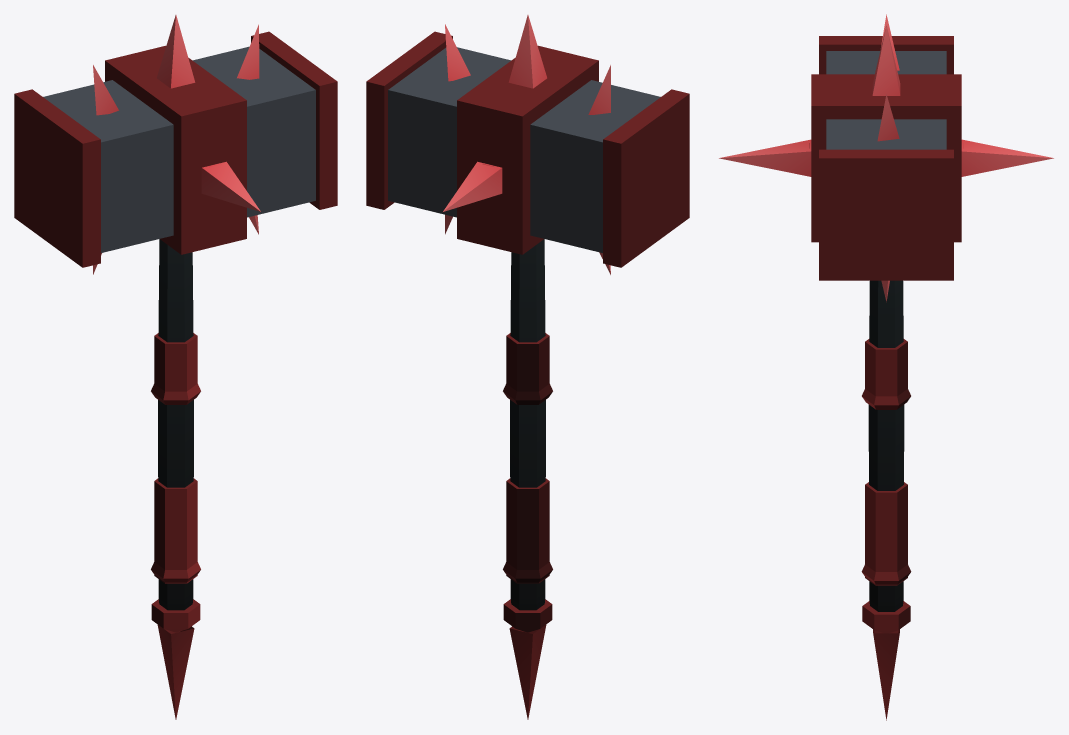
File: barb_maul_3.gltf
3 views of the same model, side by side, from view 1: azimuth 30°, elevation 25°; view 2: azimuth 150°, elevation 25°; view 3: azimuth 270°, elevation 25° (orthographic).
Parts seen in each view (by area): view 1: barb_maul_3; view 2: barb_maul_3; view 3: barb_maul_3.
Boxes of the visible parts, x1,y1,x2,y2 form: barb_maul_3: (14, 15, 337, 719); barb_maul_3: (366, 15, 689, 719); barb_maul_3: (719, 14, 1053, 720).
Size of the model in its own units: 0.8454 by 2.24 by 0.9812.
Materials: 1 (1 with a texture image).
